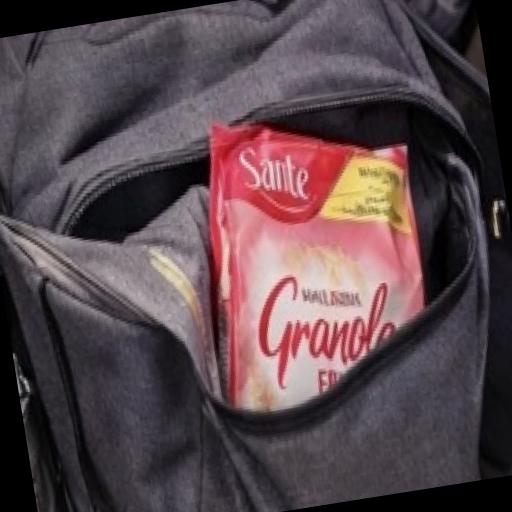granola: (169, 64, 484, 472)
